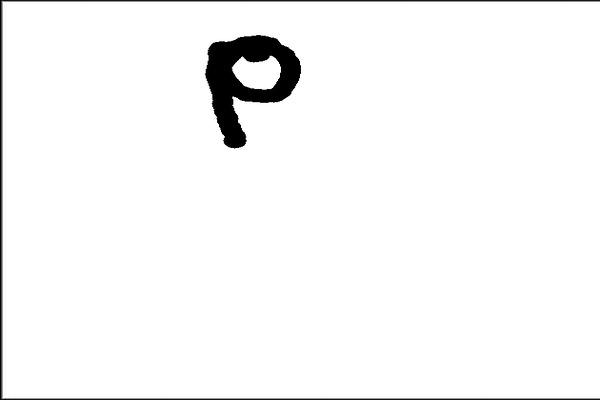P: (187, 25, 306, 153)
